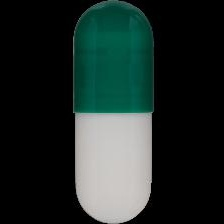62034-029: (0, 0, 224, 224)
